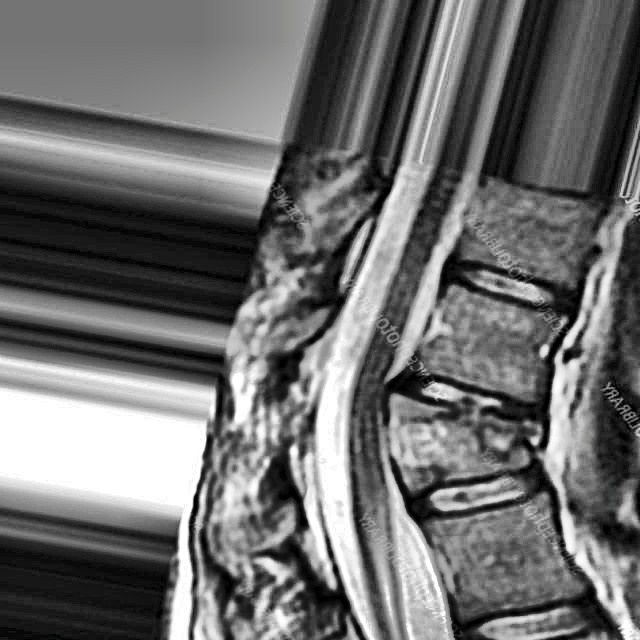Comminuted: (392, 367, 565, 472)
